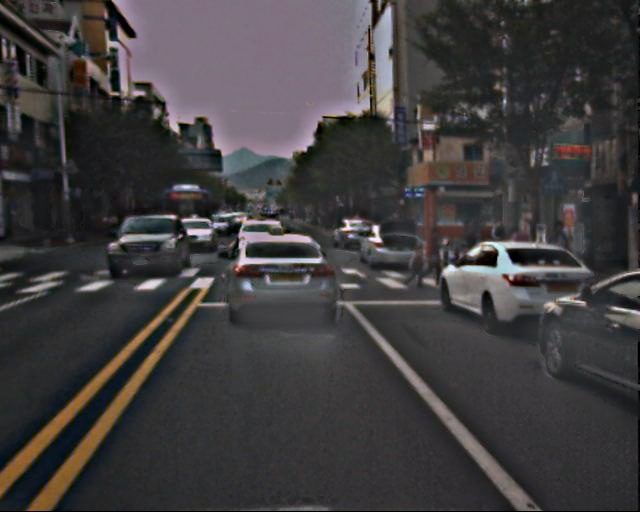person: (423, 227, 447, 286), (548, 222, 572, 281), (489, 216, 513, 273), (463, 220, 485, 275), (408, 245, 426, 290)
